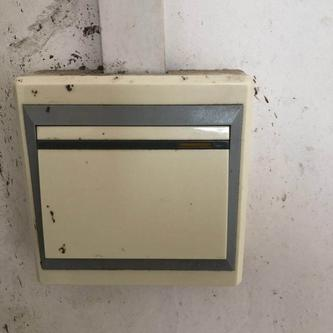switch: (31, 117, 235, 268)
